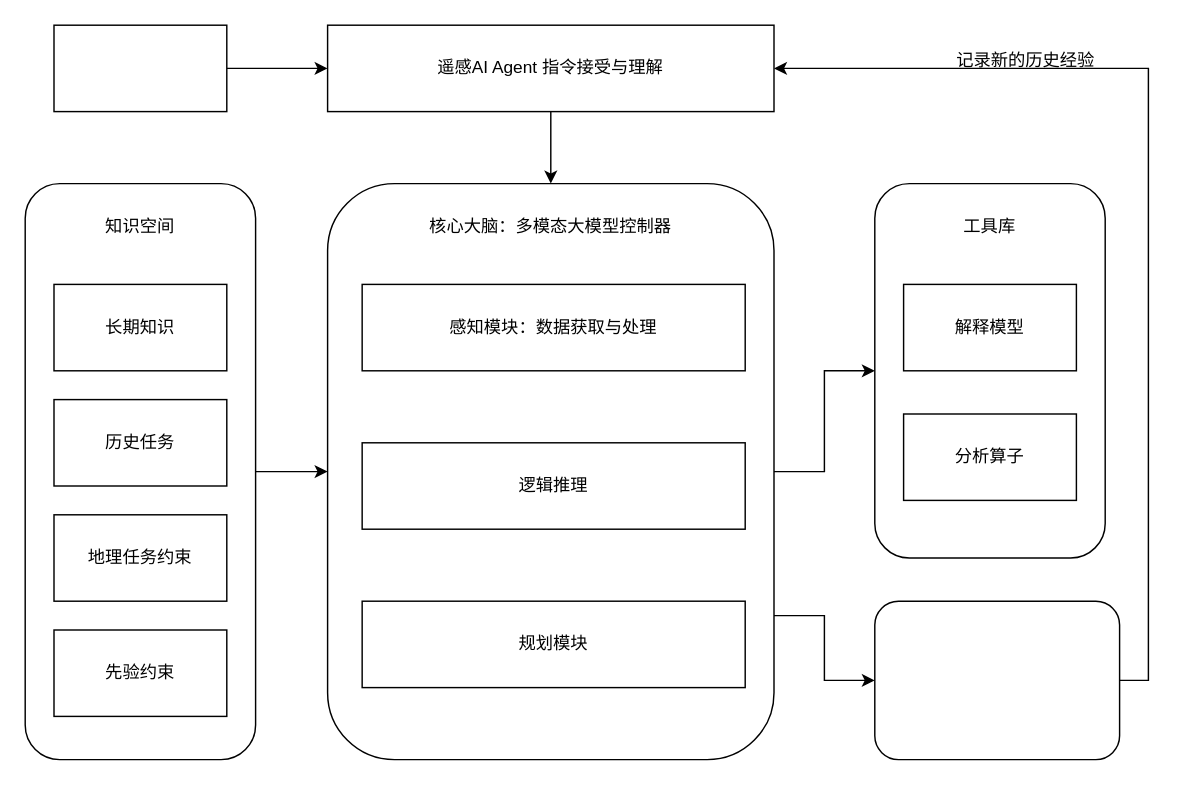
Some shapes in this 1185 by 785 pixel diagram are drawn without their labels. Here are the shapes that lost their labels. From the top down, the centre of each, then its label:
At [140,68]: "用户输入指令".
At [996,680]: "结果输出与响应".
